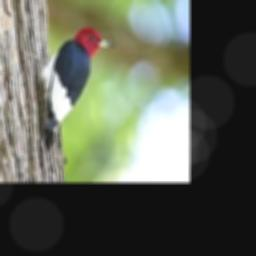Woodpecker: (31, 27, 115, 151)
